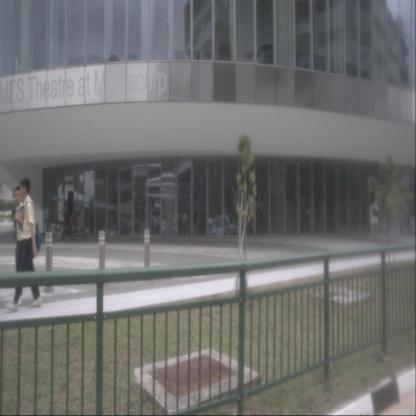human-pedestrian-adult: (4, 178, 43, 311), (9, 186, 41, 305), (370, 191, 379, 243)
vehicle-bicycle: (70, 206, 85, 240), (59, 211, 75, 239)
vehicle-car: (199, 217, 224, 238), (214, 214, 237, 236)
